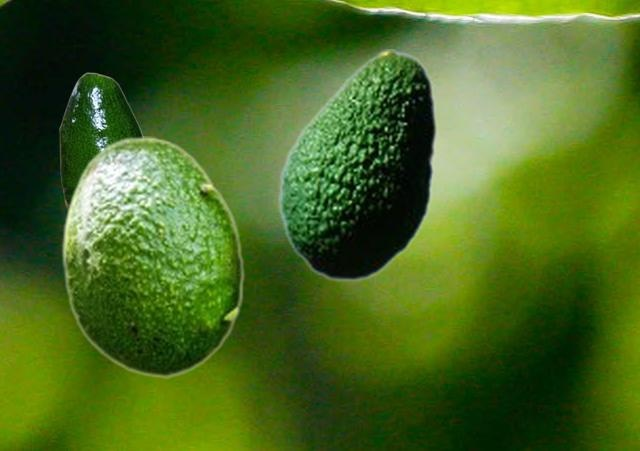avocado: (60, 136, 244, 377), (278, 49, 436, 281), (59, 72, 143, 207)
